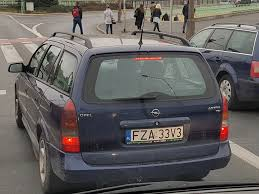number_plate: (124, 125, 184, 143)
